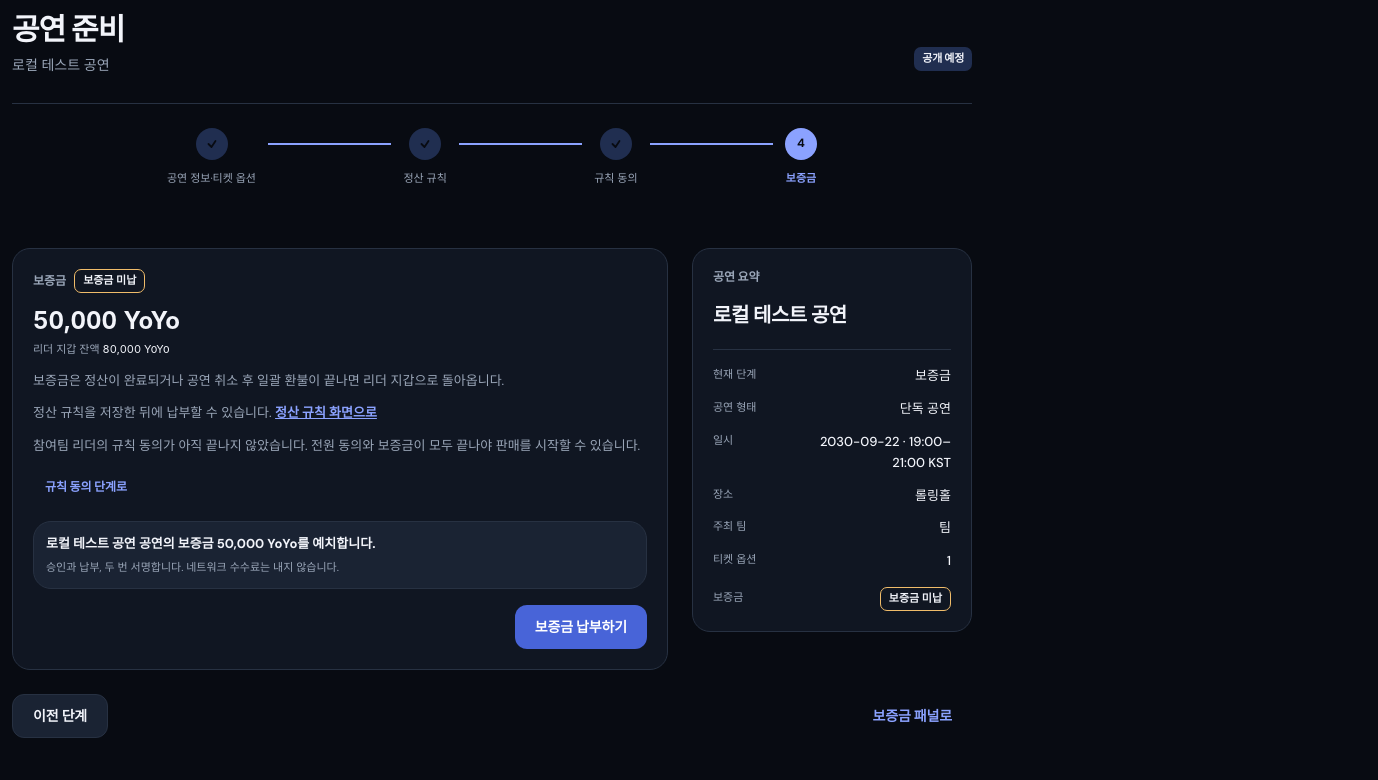
Test case: 보증금 확정 실패 경로 › prepare 409 는 code 로 갈린다 › COMMON_CONFLICT 문구가 performance_14 의 다른 원인과 모순되지 않는다
Click the button "보증금 납부하기". click: click(581, 627)
box: [515,605,647,649]
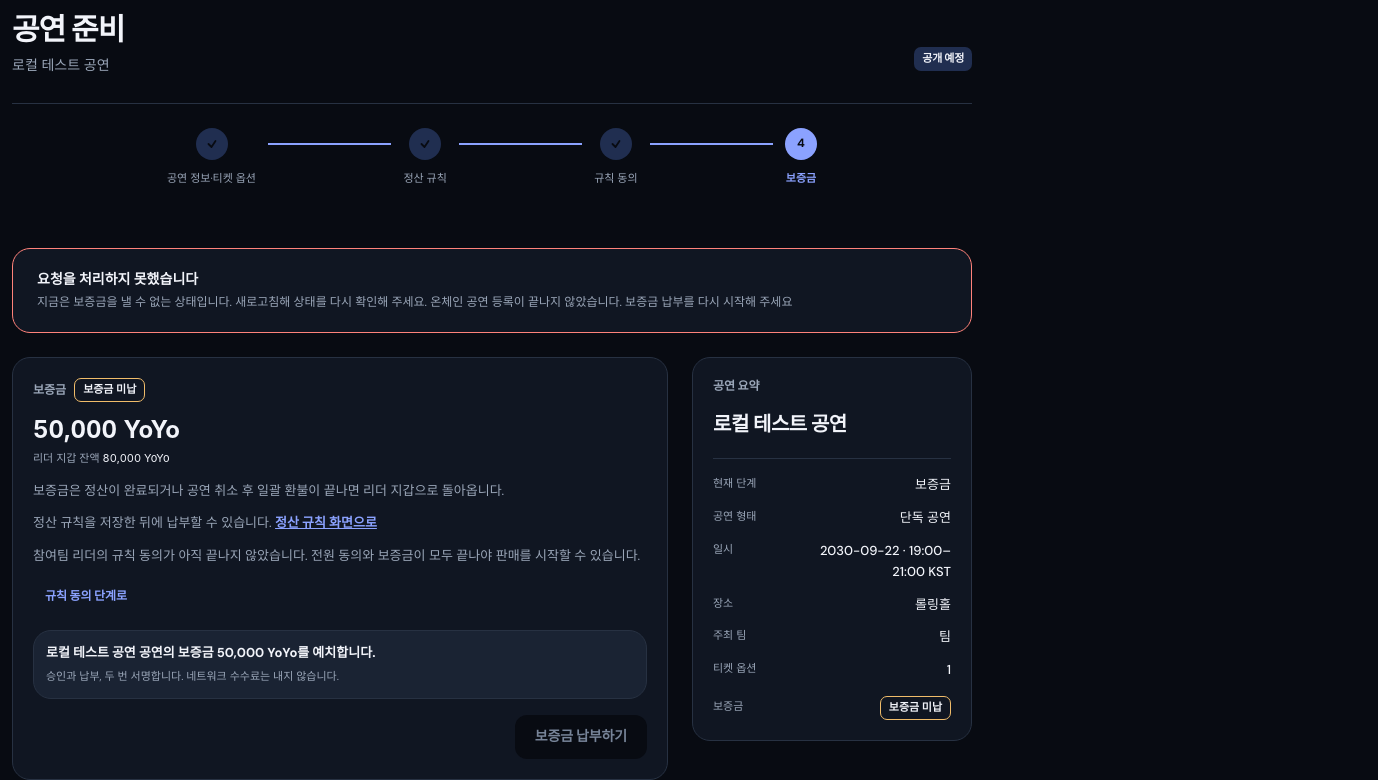
Result: the text "온체인 공연 등록이 끝나지 않았습니다" is shown at [37,294,792,310]
